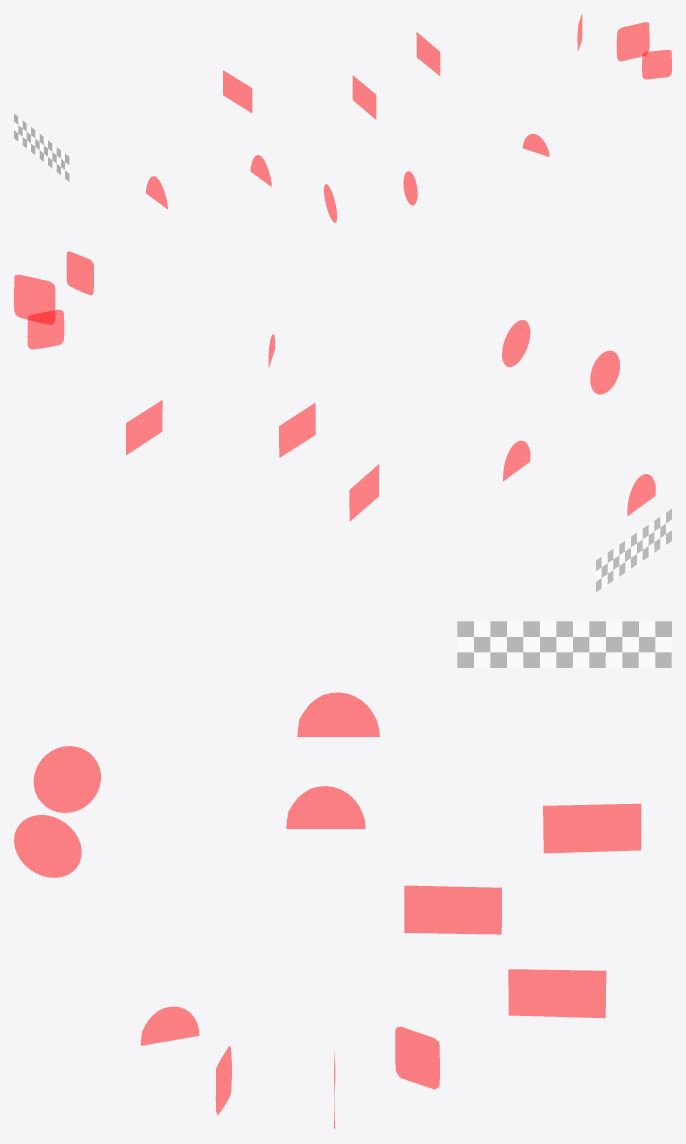
File: triggers_v_1.gltf
The picture shows the model from 3 angles, top to bottom: view 1: azimuth 30°, elevation 25°; view 2: azimuth 150°, elevation 25°; view 3: azimuth 270°, elevation 25°; orthographic projection. The views are drawn at different scales.
Visible parts, largest first — view 1: Trigger012, Trigger007, Trigger006, Trigger011, Trigger010, Trigger009, Trigger002, Trigger005, Trigger001, Trigger004; view 2: Trigger012, Trigger007, Trigger008, Trigger010, Trigger009, Trigger003, Trigger011, Trigger006, Trigger004, Trigger002, Trigger001; view 3: Trigger012, Trigger011, Trigger010, Trigger009, Trigger003, Trigger004, Trigger002, Trigger001, Trigger008, Trigger005, Trigger006.
Boxes of the visible parts, <box> form: Trigger012: <box>14,114,69,181</box>; Trigger007: <box>616,22,649,61</box>; Trigger006: <box>642,49,671,79</box>; Trigger011: <box>223,70,252,112</box>; Trigger010: <box>352,75,376,119</box>; Trigger009: <box>416,32,440,75</box>; Trigger002: <box>146,176,167,209</box>; Trigger005: <box>523,134,549,156</box>; Trigger001: <box>250,155,271,186</box>; Trigger004: <box>403,171,417,205</box>; Trigger012: <box>596,509,671,591</box>; Trigger007: <box>14,274,55,324</box>; Trigger008: <box>27,309,64,349</box>; Trigger010: <box>279,403,315,457</box>; Trigger009: <box>126,400,162,455</box>; Trigger003: <box>590,350,619,394</box>; Trigger011: <box>349,464,379,520</box>; Trigger006: <box>66,251,93,294</box>; Trigger004: <box>502,320,530,366</box>; Trigger002: <box>627,474,655,515</box>; Trigger001: <box>503,440,530,481</box>; Trigger012: <box>457,621,671,667</box>; Trigger011: <box>543,803,641,853</box>; Trigger010: <box>404,885,501,934</box>; Trigger009: <box>508,969,606,1018</box>; Trigger003: <box>33,746,100,812</box>; Trigger004: <box>14,815,81,877</box>; Trigger002: <box>297,692,379,736</box>; Trigger001: <box>286,786,365,828</box>; Trigger008: <box>395,1026,439,1089</box>; Trigger005: <box>140,1006,199,1045</box>; Trigger006: <box>215,1046,231,1114</box>.
Bounding box in the file's own units: 31.04 × 3.35 × 17.31.
